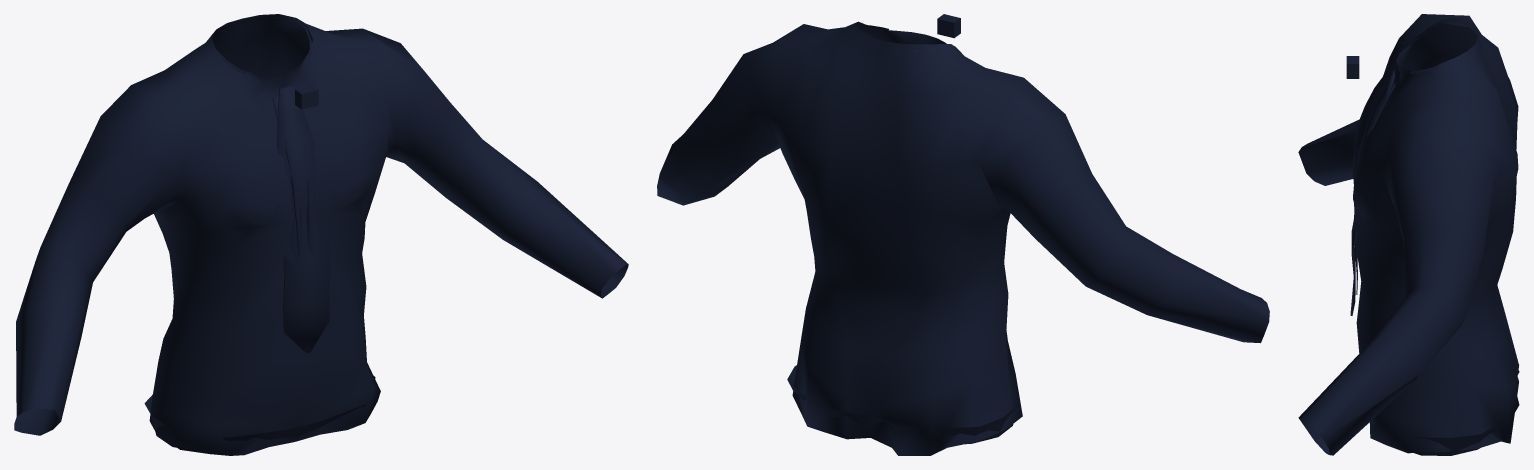
File: suit_jacket.glb
3 renders of one model, left to right at view 1: azimuth 30°, elevation 25°; view 2: azimuth 150°, elevation 25°; view 3: azimuth 270°, elevation 25°, orthographic. The views are drawn at different scales.
Parts seen in each view (by area): view 1: suit_jacket; view 2: suit_jacket; view 3: suit_jacket.
Boxes of the visible parts, x1,y1,x2,y2 form: suit_jacket: (14,14,628,455); suit_jacket: (657,14,1269,455); suit_jacket: (1298,14,1519,455).
Size of the model in its own units: 1.08 by 0.666 by 0.3472.
